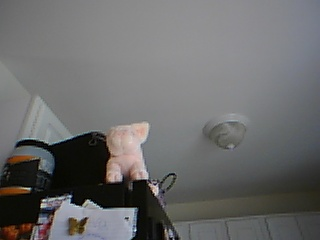piggy: (104, 120, 161, 196)
